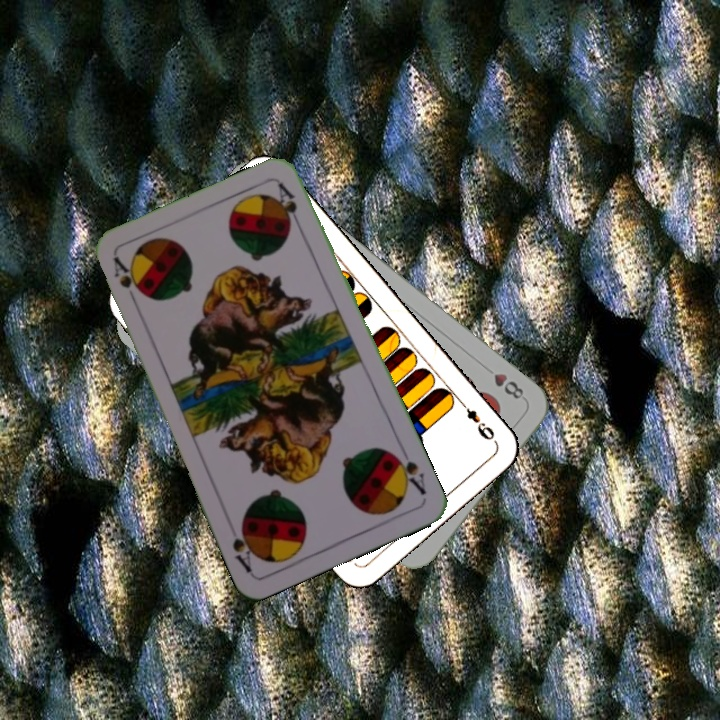E9: (455, 396, 497, 443)
H8: (490, 369, 527, 402)
SA: (388, 443, 429, 498), (109, 252, 143, 309)
